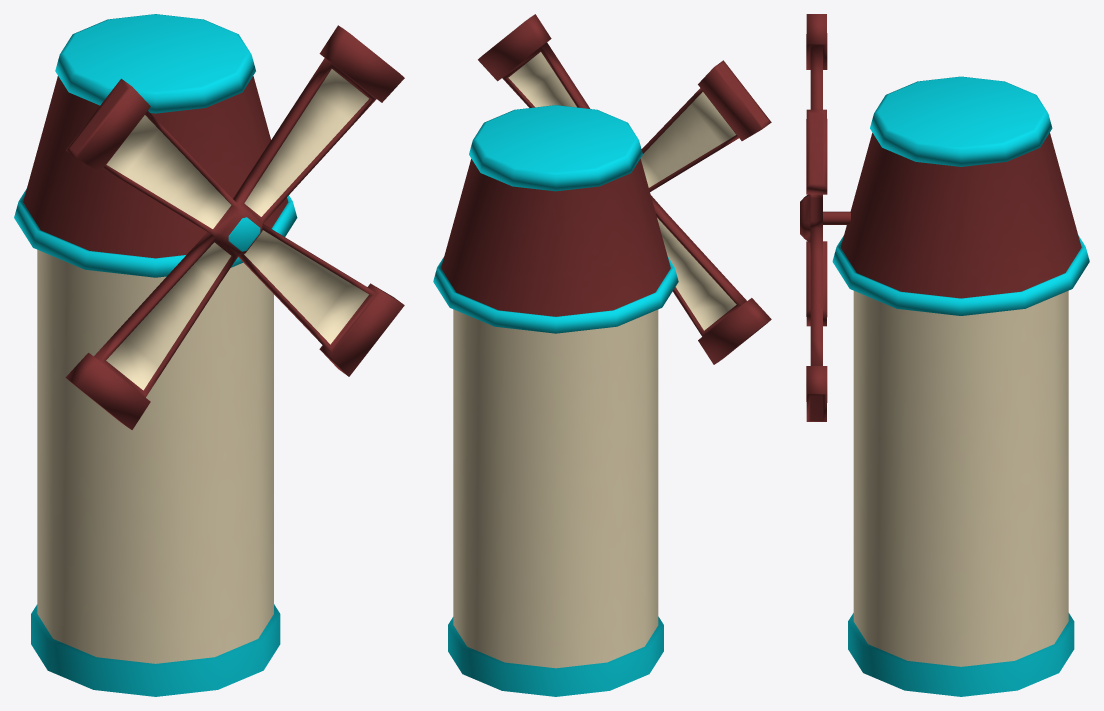
File: Windmill_NormalsFix.FBX
3 renders of one model, left to right at view 1: azimuth 30°, elevation 25°; view 2: azimuth 150°, elevation 25°; view 3: azimuth 270°, elevation 25°, orthographic. The views are drawn at different scales.
Parts seen in each view (by area): view 1: Cone002, Windmill; view 2: Cone002, Windmill; view 3: Cone002, Windmill.
Part boxes in pixels (<box>): Cone002: <box>14,14,297,696</box>; Windmill: <box>65,25,404,429</box>; Cone002: <box>433,105,678,696</box>; Windmill: <box>478,14,771,364</box>; Cone002: <box>823,76,1089,696</box>; Windmill: <box>800,14,827,421</box>.
Size of the model in its own units: 380 by 716 by 320.
